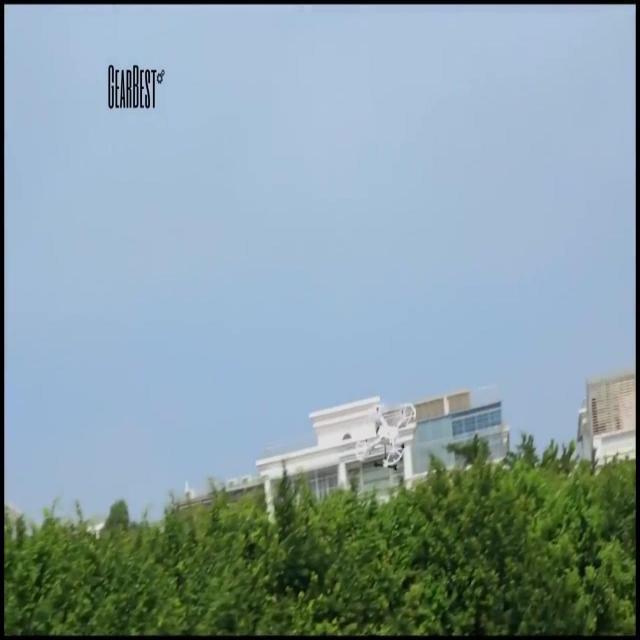UAV: (356, 404, 416, 470)
